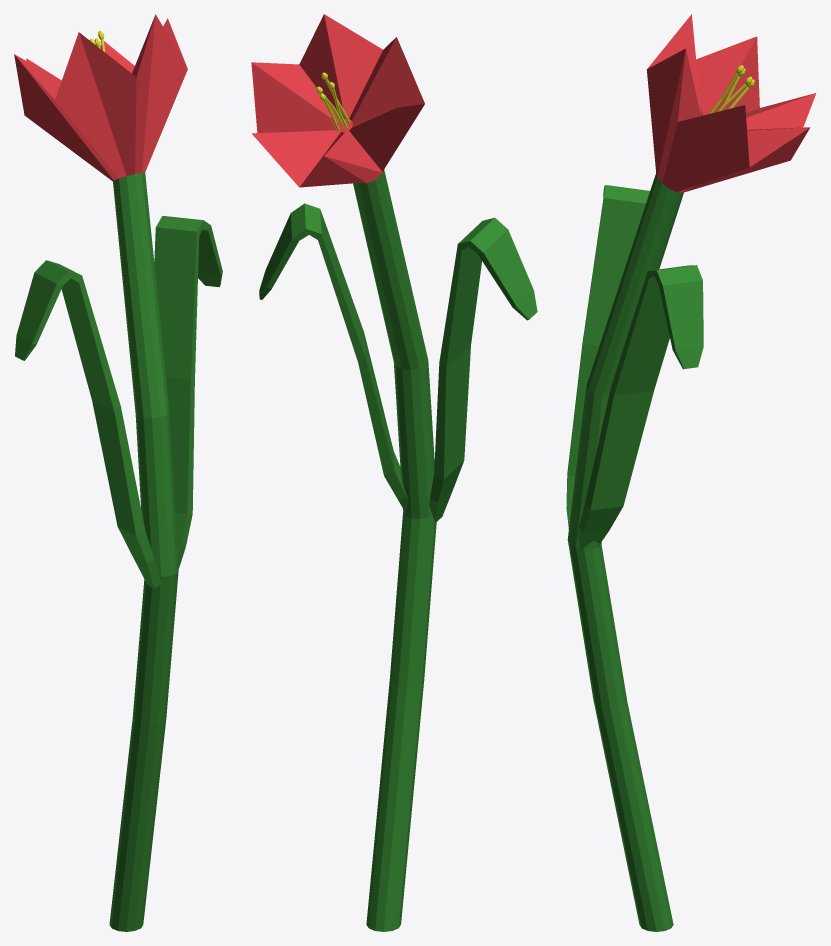
File: Flower3.2.fbx
3 views of the same model, side by side, from view 1: azimuth 30°, elevation 25°; view 2: azimuth 150°, elevation 25°; view 3: azimuth 270°, elevation 25° (orthographic). The views are drawn at different scales.
Parts seen in each view (by area): view 1: Flower3.2; view 2: Flower3.2; view 3: Flower3.2.
Boxes of the visible parts, x1,y1,x2,y2 form: Flower3.2: [14, 14, 222, 931]; Flower3.2: [251, 14, 537, 931]; Flower3.2: [566, 14, 816, 931].
Bounding box in the file's own units: 10.79 × 39.03 × 9.85.
